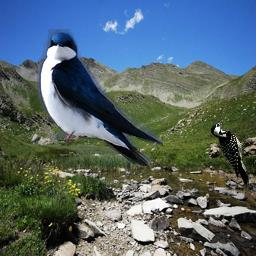Swallow: (37, 29, 163, 167)
Woodpecker: (210, 118, 249, 190)
